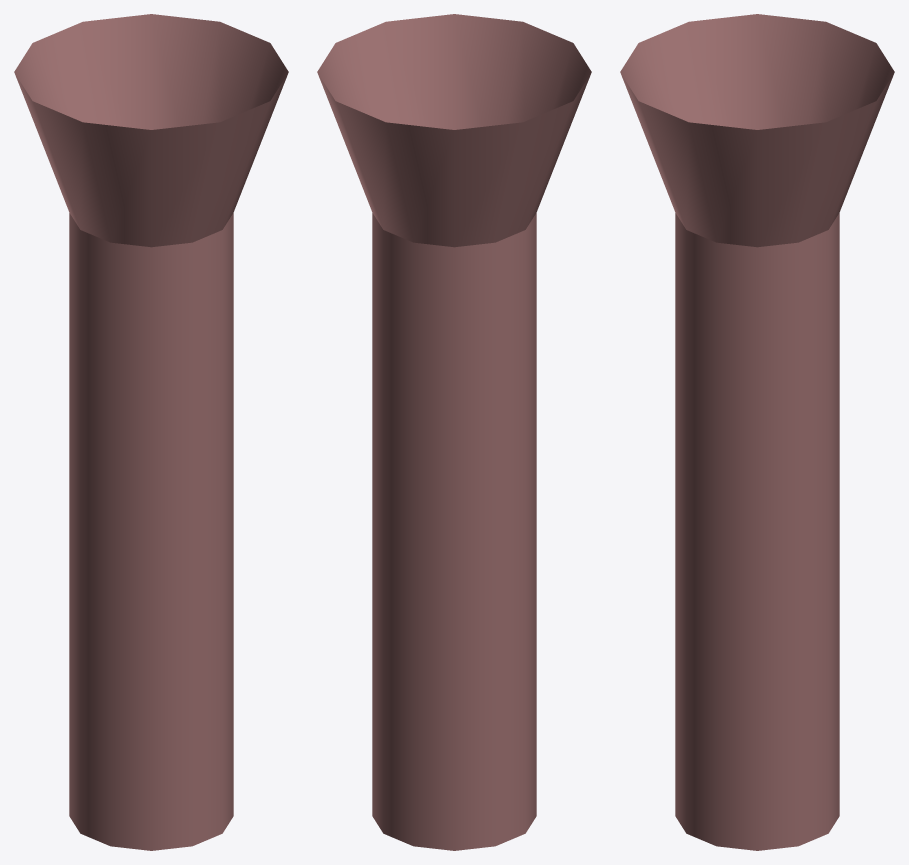
File: SM_Pylon_00.fbx
3 views of the same model, side by side, from view 1: azimuth 30°, elevation 25°; view 2: azimuth 150°, elevation 25°; view 3: azimuth 270°, elevation 25° (orthographic).
Visible parts, largest first — view 1: Pylon_00; view 2: Pylon_00; view 3: Pylon_00.
Part boxes in pixels (box(x1,y1,x2,y2)): Pylon_00: box(14, 14, 288, 850); Pylon_00: box(317, 14, 591, 850); Pylon_00: box(620, 14, 894, 850).
Bounding box in the file's own units: 100 × 300 × 100.
